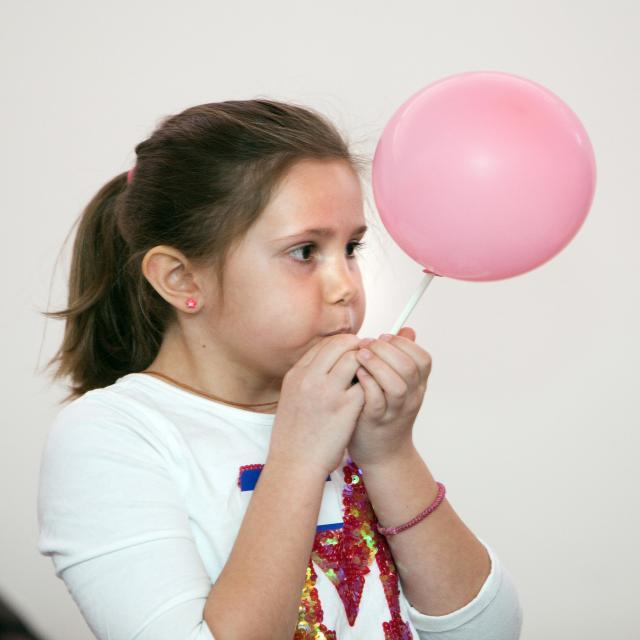balloon: (378, 69, 598, 282)
